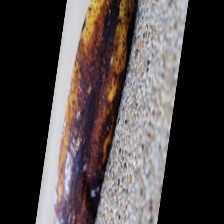banana: (56, 19, 202, 197)
